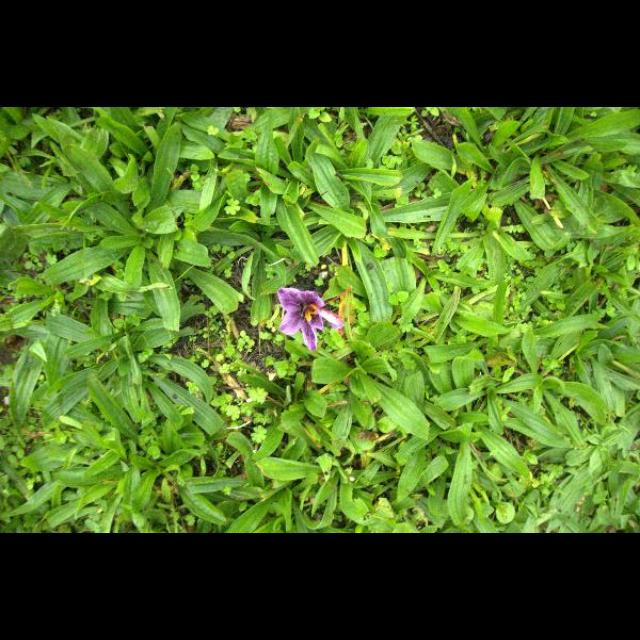flower: (278, 287, 342, 353)
